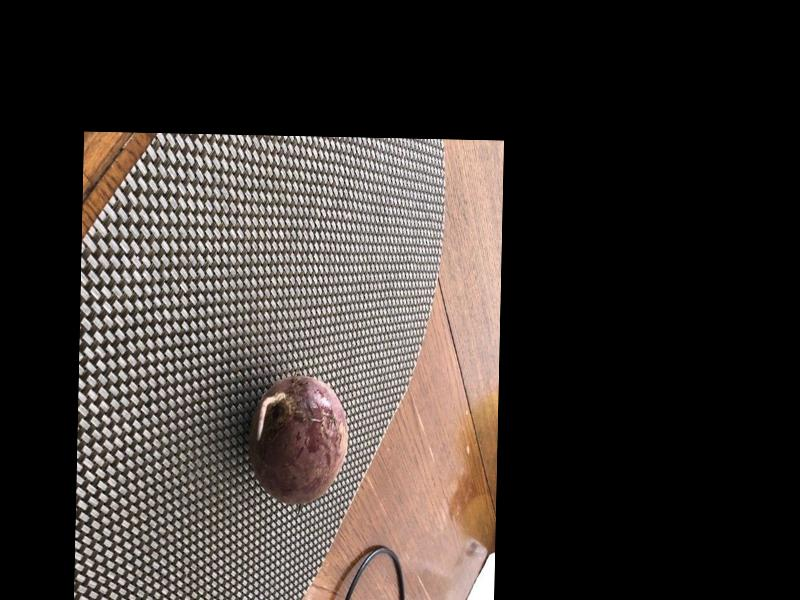Beet: (248, 375, 348, 506)
